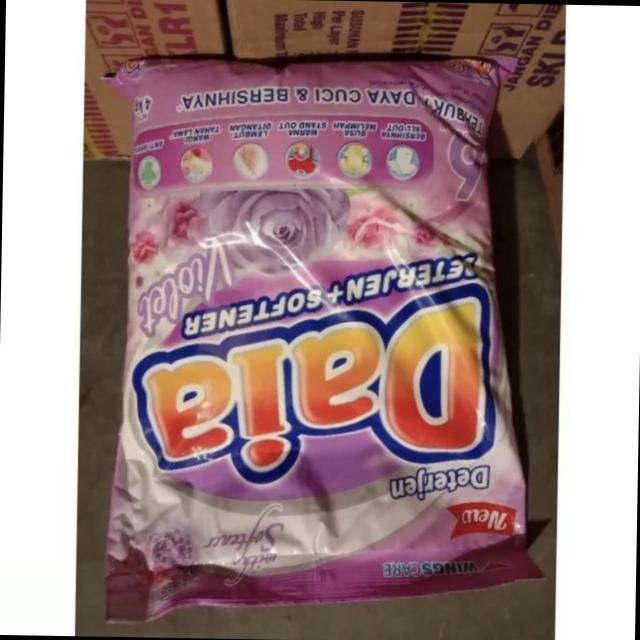KemasanPlastik: (97, 48, 554, 631)
